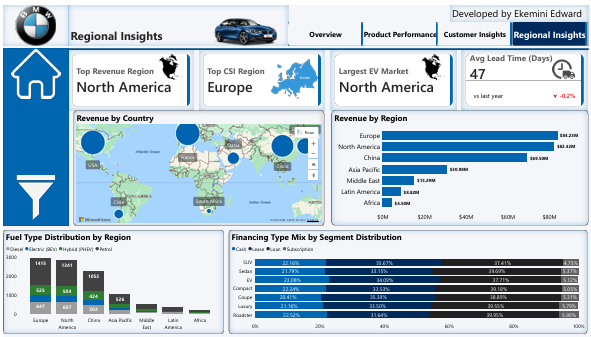

What the dashboard file says about the page in this screenshot:
{"tool":"powerbi","page":{"name":"Regional Insights","canvas":[1920,1080],"ordinal":3},"visuals":[{"type":"shape","box":[0,141.2,215.1,582.6],"z":0},{"type":"image","box":[0,560.2,215.1,145.6],"z":0,"group":"g1"},{"type":"shape","box":[215.1,125.5,1705.1,38.1],"z":1000},{"type":"image","box":[687.9,35.9,219.6,107.6],"z":2000},{"type":"image","box":[0,0,216,134.4],"z":3000},{"type":"textbox","box":[216,0,718.5,134.4],"z":4000},{"type":"image","box":[0,145.6,215.1,161.3],"z":5000},{"type":"cardVisual","fields":{"Data":["_Measures.Highest Revenue Region"]},"box":[212.9,147.9,412,197.2],"z":6000},{"type":"cardVisual","fields":{"Data":["_Measures.Highest Satisfactiion Region"]},"box":[643.8,147.9,412,197.2],"z":7000},{"type":"cardVisual","fields":{"Data":["_Measures.Largest EV Market"]},"box":[1074.8,147.9,412,197.2],"z":8000},{"type":"cardVisual","fields":{"Data":["_Measures.Avg Delivery Lead Time"]},"box":[1505.5,147.9,412.3,197.2],"z":9000},{"type":"clusteredBarChart","title":"Revenue by Region","fields":{"Category":["Transaction_Fact.region"],"Y":["_Measures.Revenue"]},"box":[1077.8,346,842,376.9],"z":10000},{"type":"azureMap","title":"Revenue by Country","fields":{"Category":["Dim_Geography.country"],"Size":["_Measures.Revenue"]},"box":[230.8,345.1,822.3,378.7],"z":11000},{"type":"columnChart","title":"Fuel Type Distribution by Region","fields":{"Category":["Transaction_Fact.region"],"Series":["Transaction_Fact.fuel_type"],"Y":["_Measures.Vehicles Sold"]},"box":[0,739.4,723.7,340.6],"z":12000},{"type":"hundredPercentStackedBarChart","title":"Financing Type Mix by Segment Distribution","fields":{"Category":["Transaction_Fact.segment"],"Y":["_Measures.Vehicles Sold"],"Series":["Transaction_Fact.financing_type"]},"box":[741.7,739.4,1176.3,340.6],"z":13000},{"type":"pageNavigator","box":[934.5,55.1,985.2,79.3],"z":14000},{"type":"group","id":"g1","title":"Regional Insights Filter","box":[0,141.1,451.8,897.1],"z":15000},{"type":"image","box":[491.5,163.1,112.4,83.8],"z":16000},{"type":"image","box":[879.4,163.1,152.1,156.5],"z":17000},{"type":"image","box":[1353.3,163.1,112.4,83.8],"z":18000},{"type":"image","box":[1780.9,174.1,114.6,72.7],"z":19000},{"type":"textbox","box":[1467.9,0,451.8,55.1],"z":20000}]}

Visuals, with their boxes in screenshot pixels (x1, y1, x2, y2), scaled from the page's 1920x1080 canvas onto the 591x337 screenshot:
shape: (left=0, top=44, right=66, bottom=226)
image: (left=0, top=175, right=66, bottom=220)
shape: (left=66, top=39, right=590, bottom=51)
image: (left=212, top=11, right=279, bottom=45)
image: (left=0, top=0, right=66, bottom=42)
textbox: (left=66, top=0, right=288, bottom=42)
image: (left=0, top=45, right=66, bottom=96)
cardVisual - _Measures.Highest Revenue Region: (left=66, top=46, right=192, bottom=108)
cardVisual - _Measures.Highest Satisfactiion Region: (left=198, top=46, right=325, bottom=108)
cardVisual - _Measures.Largest EV Market: (left=331, top=46, right=458, bottom=108)
cardVisual - _Measures.Avg Delivery Lead Time: (left=463, top=46, right=590, bottom=108)
"Revenue by Region" clusteredBarChart: (left=332, top=108, right=590, bottom=226)
"Revenue by Country" azureMap: (left=71, top=108, right=324, bottom=226)
"Fuel Type Distribution by Region" columnChart: (left=0, top=231, right=223, bottom=336)
"Financing Type Mix by Segment Distribution" hundredPercentStackedBarChart: (left=228, top=231, right=590, bottom=336)
pageNavigator: (left=288, top=17, right=590, bottom=42)
"Regional Insights Filter" group: (left=0, top=44, right=139, bottom=324)
image: (left=151, top=51, right=186, bottom=77)
image: (left=271, top=51, right=318, bottom=100)
image: (left=417, top=51, right=451, bottom=77)
image: (left=548, top=54, right=583, bottom=77)
textbox: (left=452, top=0, right=590, bottom=17)
